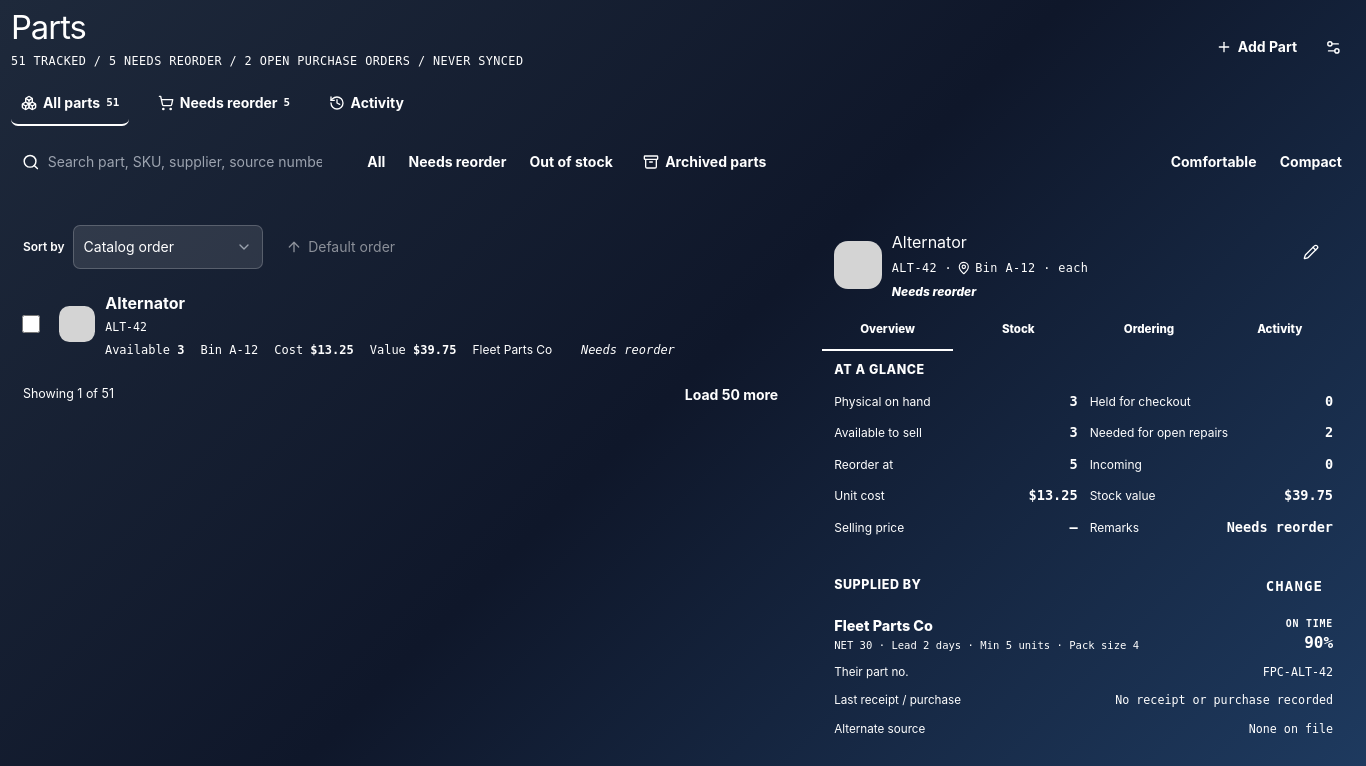
Scenario: DB-038 Parts & inventory workspace › keeps manual purchase preparation available without visually escalating healthy stock
Expected: the heading "Alternator" is shown, [892, 232, 967, 252]
Type "brake" into the search field named "Search parts" at (192, 162), box [48, 141, 336, 183]
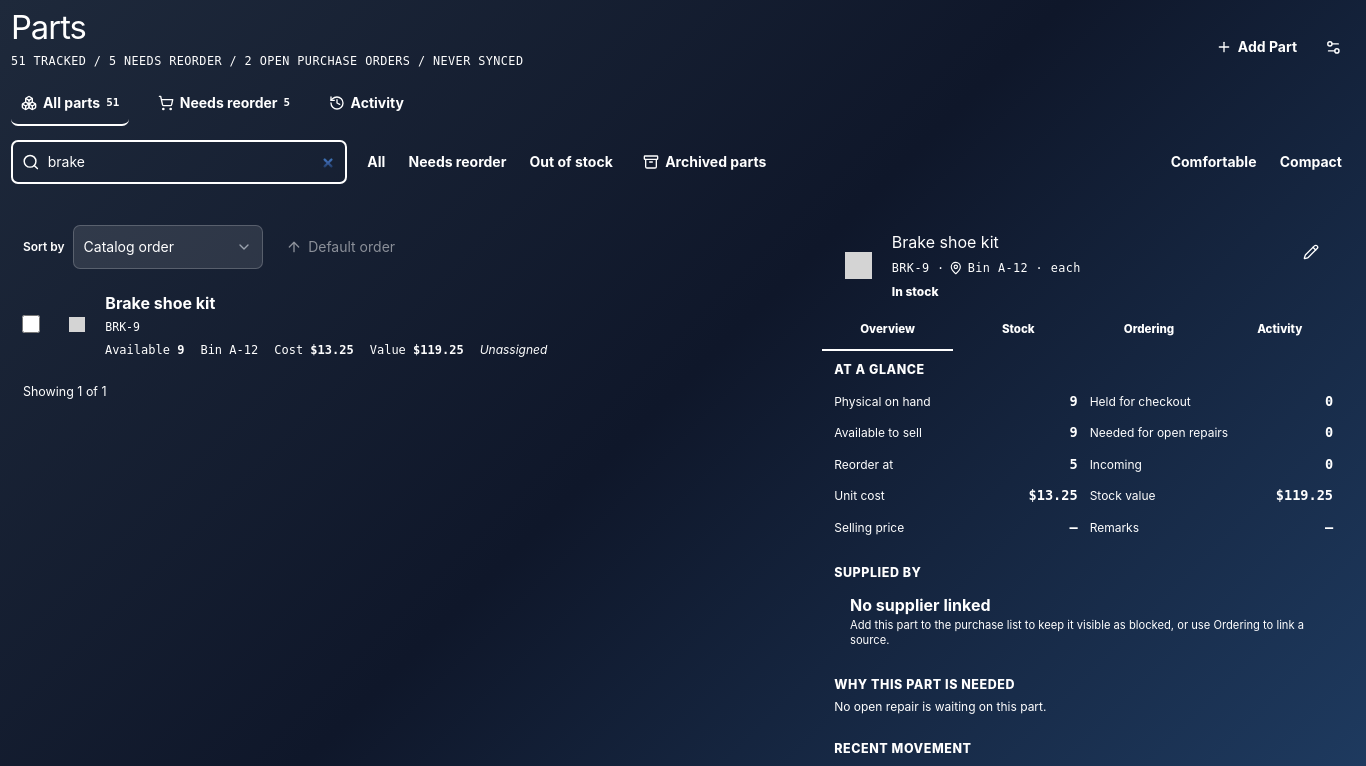
Result: the heading "Brake shoe kit" is shown at [892, 232, 999, 252]
Click the tab "Ordering" at (1149, 331), box [1084, 311, 1214, 351]
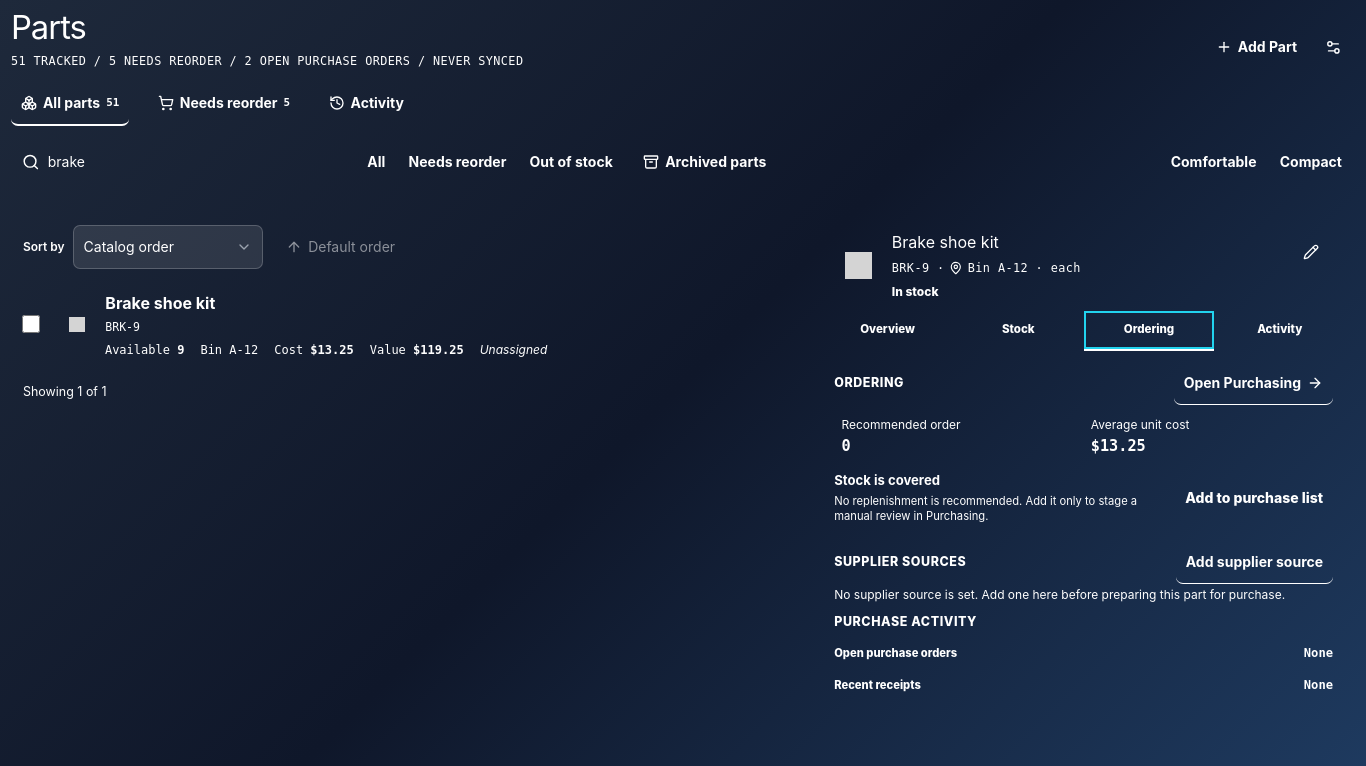
Result: the text "Stock is covered" is shown at [834, 472, 940, 488]
Result: the text "No replenishment is recommended. Add it only to stage a manual review in Purchasing." is shown at [834, 494, 1137, 523]
